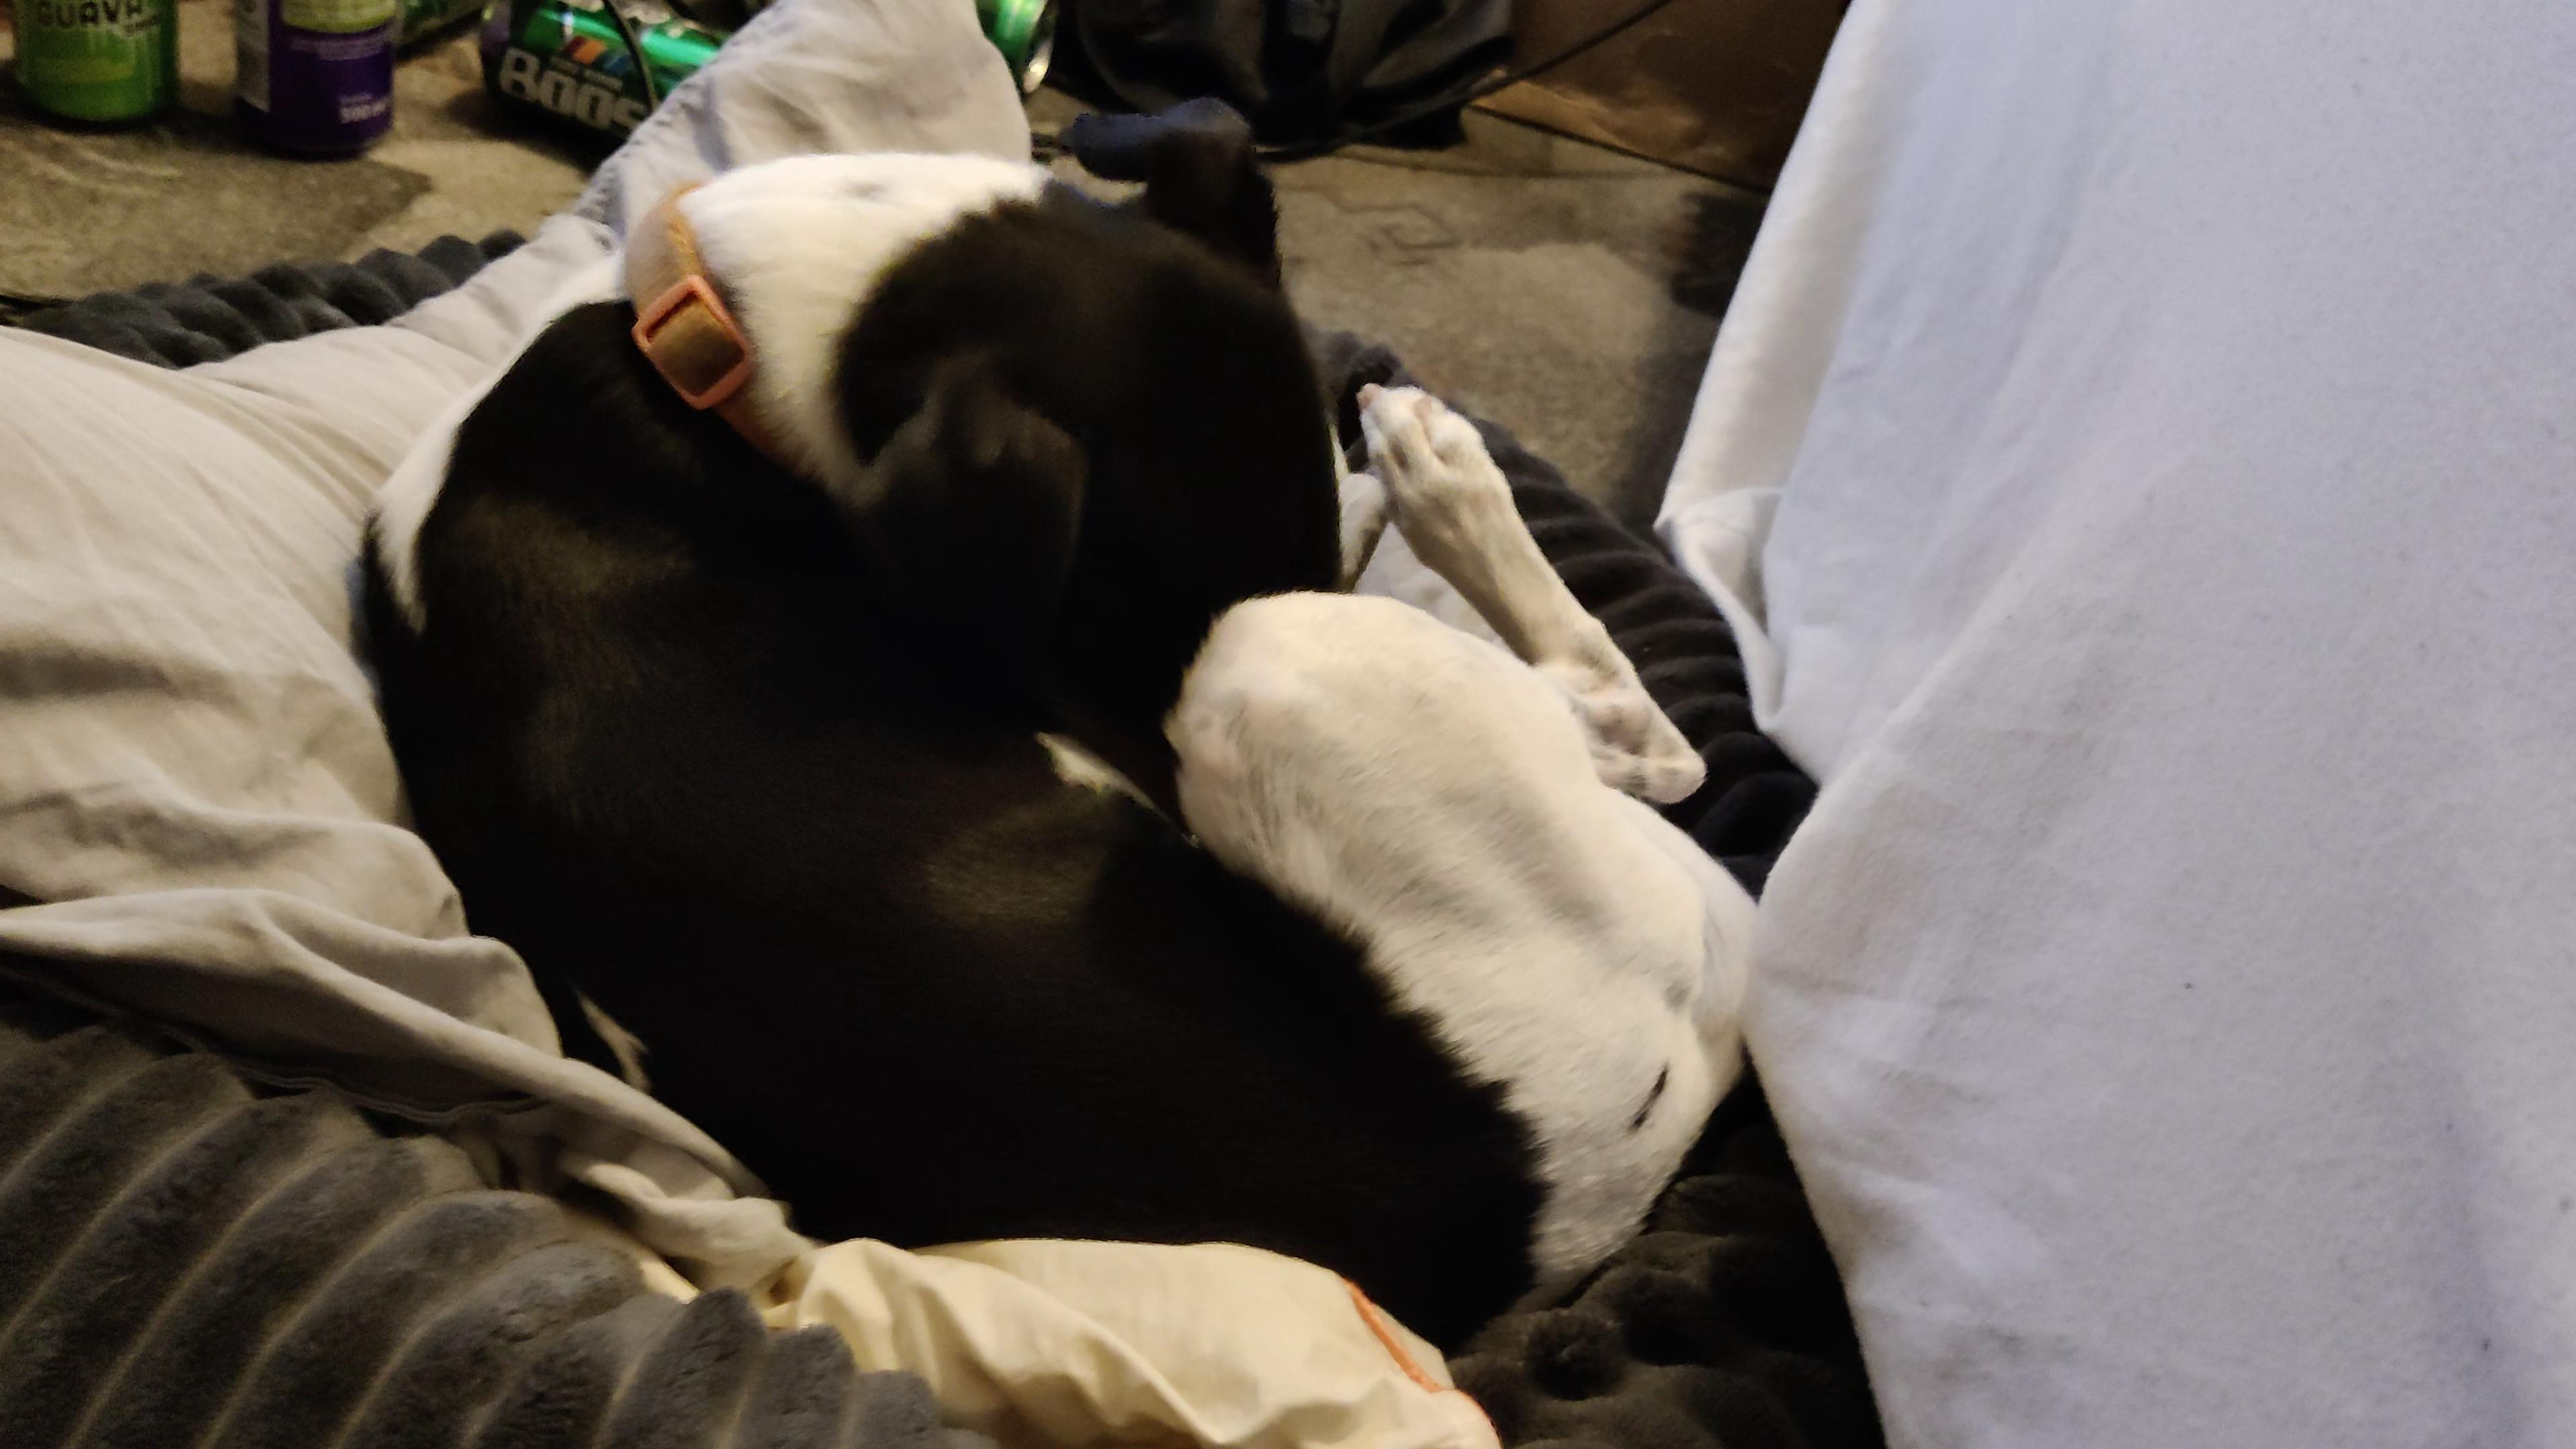Dog: (303, 97, 1776, 1346)
